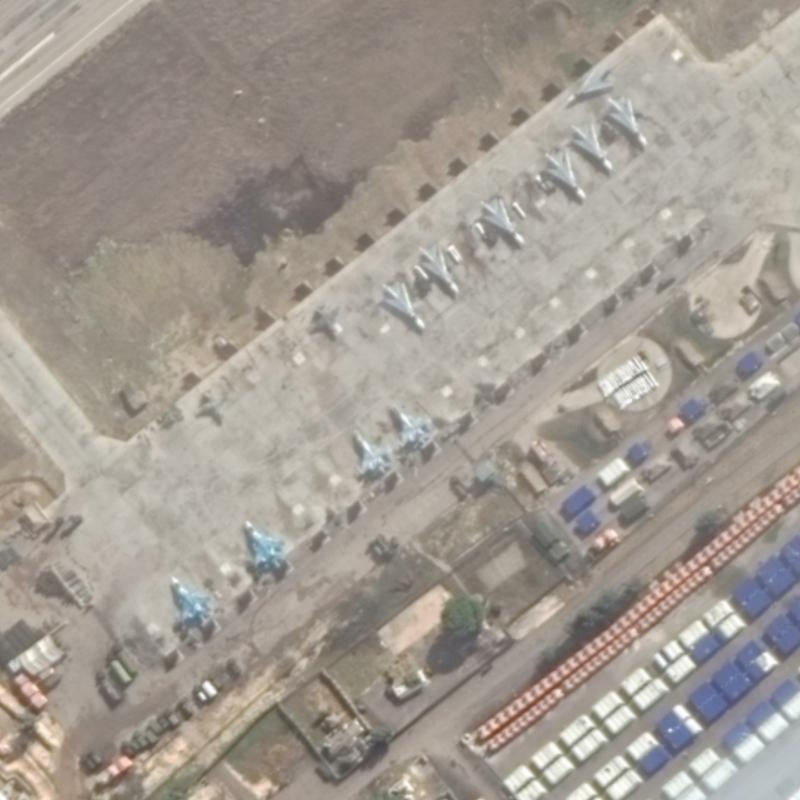A1: (348, 428, 391, 476), (389, 403, 432, 448)
A19: (240, 514, 287, 570), (165, 572, 212, 624)
A20: (475, 193, 528, 250), (537, 145, 588, 202), (376, 277, 426, 333), (567, 118, 618, 171), (412, 242, 461, 296), (558, 59, 615, 105), (602, 94, 650, 148)
